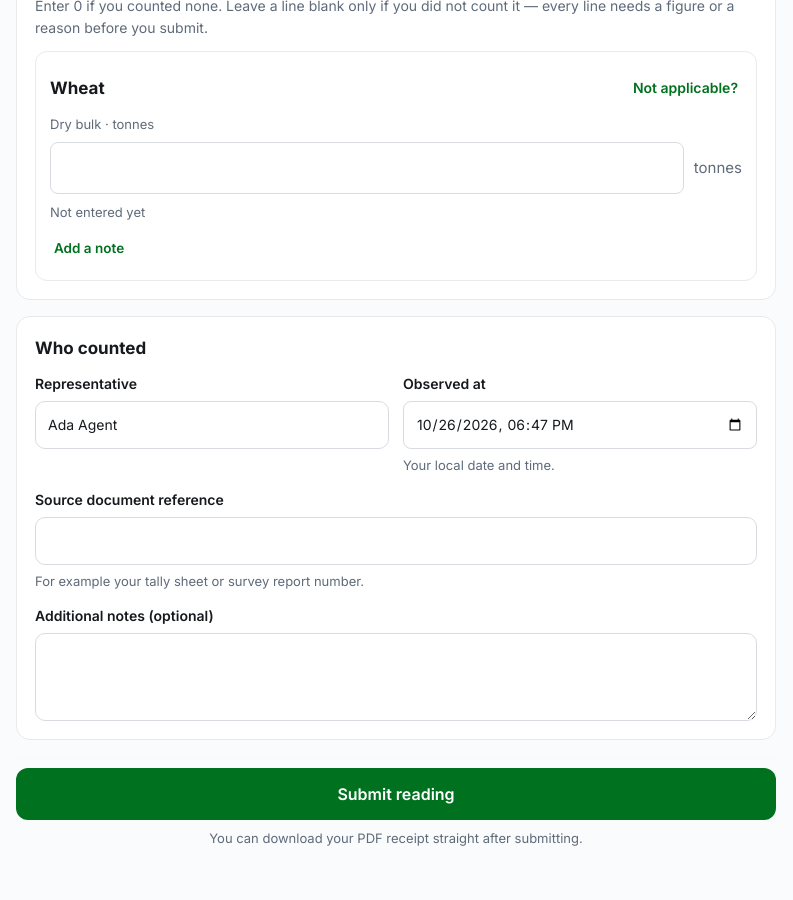
guest agency reading presentation › keeps the draft and peers hidden after failure and retries without duplicated in-flight submissions
(page scrolled)
In the field labelled "Source document reference": (396, 541) [35,517,757,565], type "AGENCY-001"
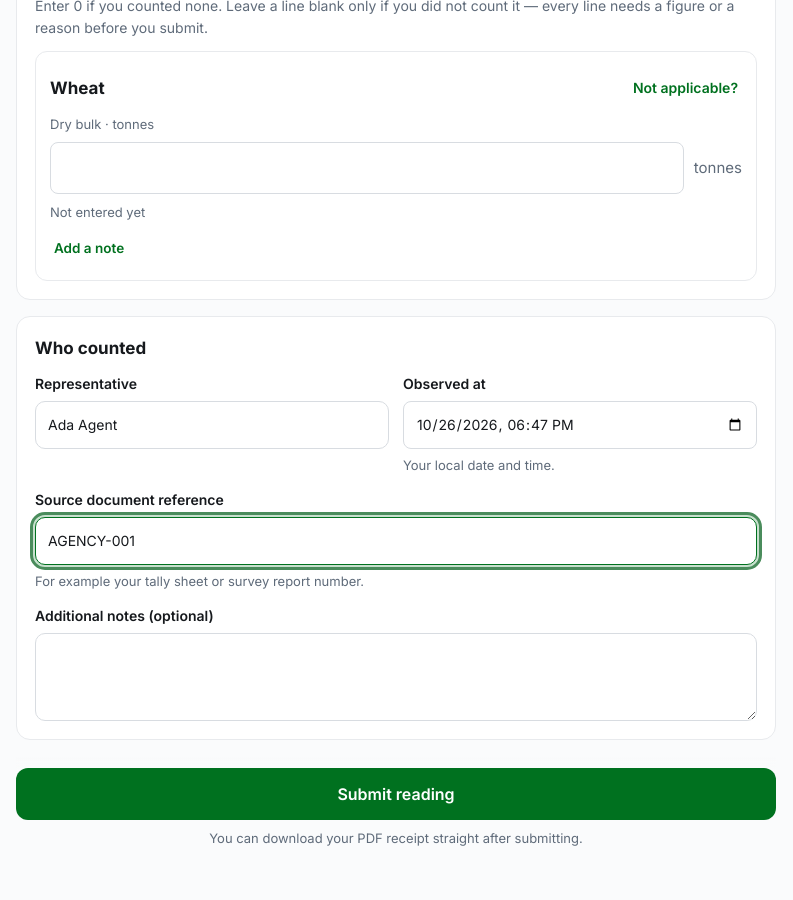
Replace the text in the field labelled "Observed at" with "2026-10-05T10:30": (580, 425) [403,401,757,449]
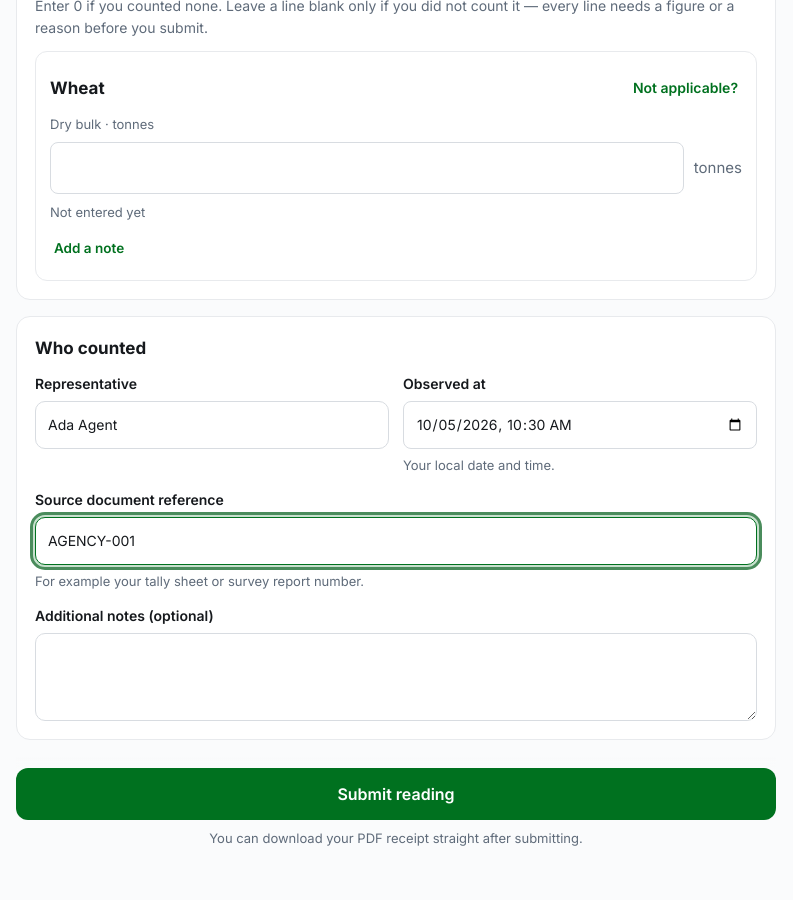
In the number field named "Measured quantity · Wheat · import": (367, 168) [50,142,684,194], type "3.125"
(page scrolled)
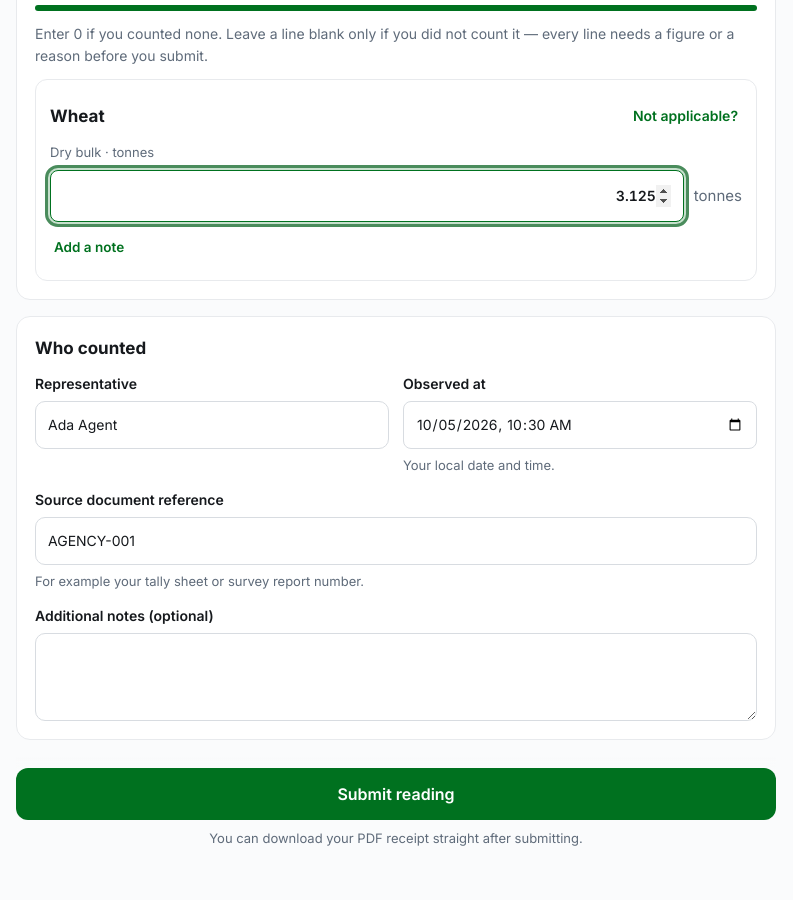
Click the button "Submit reading": (396, 794) [16,768,776,820]
(page scrolled)
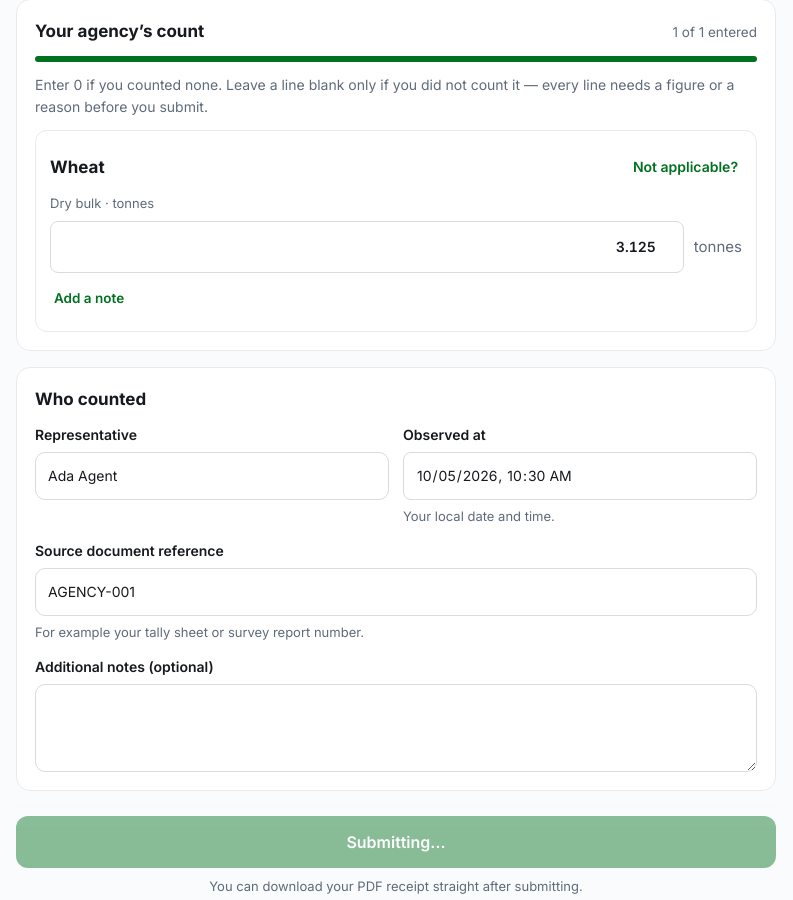
Now the button "Submitting…" is disabled, box [16,816,776,868]
Submit the form named "Submitting…"
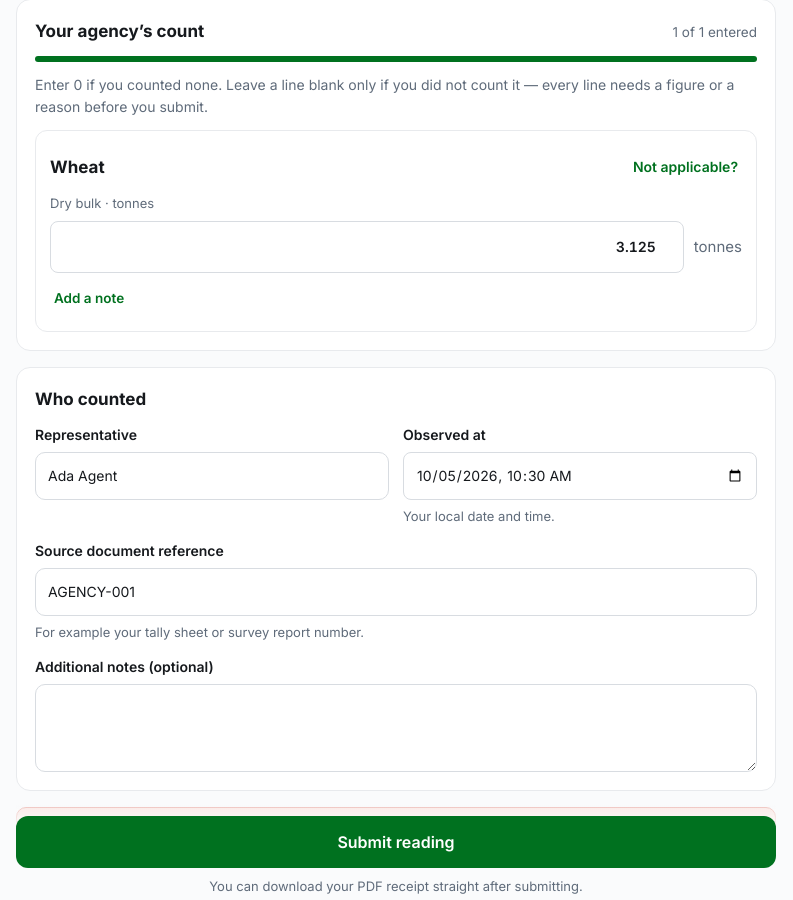
Now the message shows "Unable to confirm this submission", box [31,822,369,841]
Click the button "Submit reading": (396, 842) [16,816,776,868]
(page scrolled)
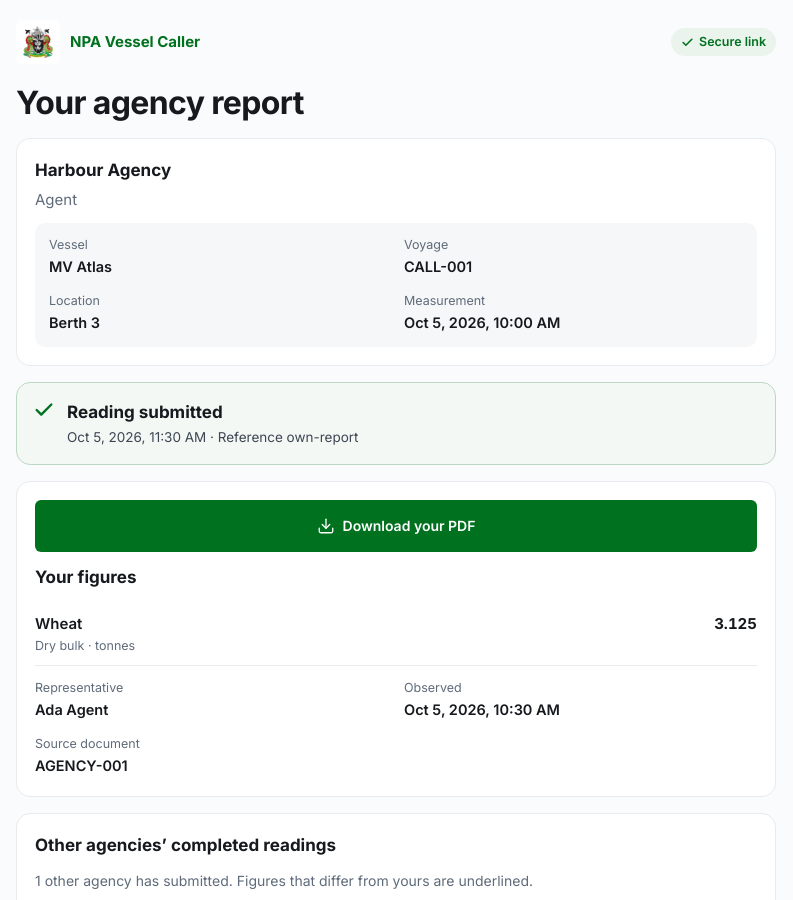
Now the heading "Your agency report" is shown, box [16,83,304,122]
